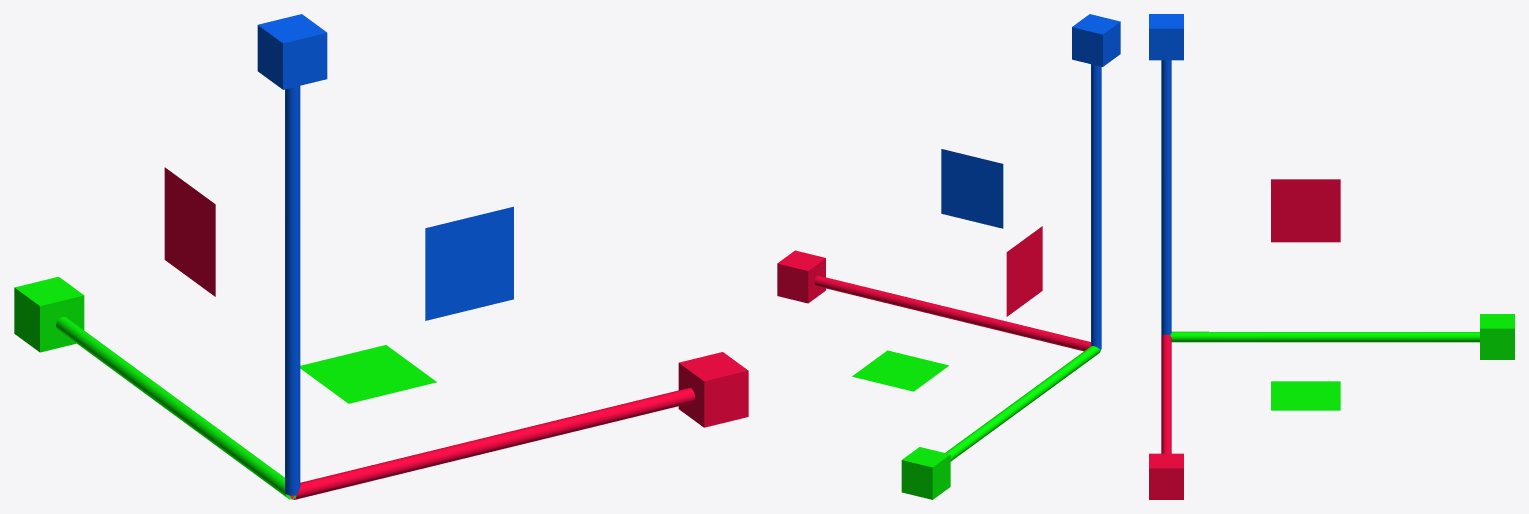
File: tdme_gizmo_scale.fbx
The picture shows the model from 3 angles, left to right: view 1: azimuth 30°, elevation 25°; view 2: azimuth 150°, elevation 25°; view 3: azimuth 270°, elevation 25°; orthographic projection. The views are drawn at different scales.
Visible parts, largest first — view 1: scale_z, scale_x, scale_y, scale_z_plane, scale_x_plane, scale_y_plane; view 2: scale_z, scale_x, scale_y, scale_z_plane, scale_x_plane, scale_y_plane; view 3: scale_y, scale_z, scale_x_plane, scale_x, scale_y_plane.
Part boxes in pixels (<box>): scale_z: <box>257,14,327,495</box>; scale_x: <box>290,352,748,499</box>; scale_y: <box>14,276,296,499</box>; scale_z_plane: <box>425,206,513,320</box>; scale_x_plane: <box>164,167,215,296</box>; scale_y_plane: <box>300,345,436,403</box>; scale_z: <box>1072,14,1120,349</box>; scale_x: <box>777,250,1090,351</box>; scale_y: <box>901,346,1100,499</box>; scale_z_plane: <box>941,149,1003,228</box>; scale_x_plane: <box>1006,226,1042,316</box>; scale_y_plane: <box>852,350,948,391</box>; scale_y: <box>1170,314,1514,359</box>; scale_z: <box>1149,14,1183,336</box>; scale_x_plane: <box>1271,179,1340,242</box>; scale_x: <box>1149,334,1183,499</box>; scale_y_plane: <box>1271,381,1340,410</box>.
Size of the model in its own units: 105 by 105 by 105.
